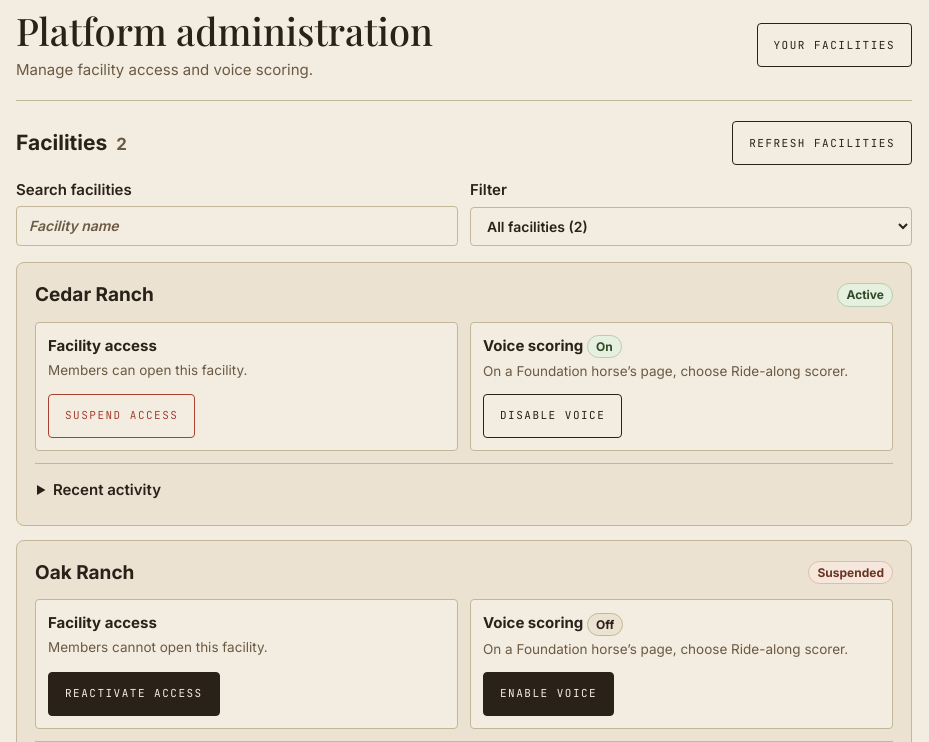
Test case: filters facilities by name and status and clears empty results
The image size is (929, 742).
Later steps or results of the test are not shown.
Expected: the heading "Cedar Ranch" is shown, 35,281 -> 154,309
Select "Suspended (1)" in the dropdown labelled "Filter" at (691, 227), box 470,207 -> 912,246
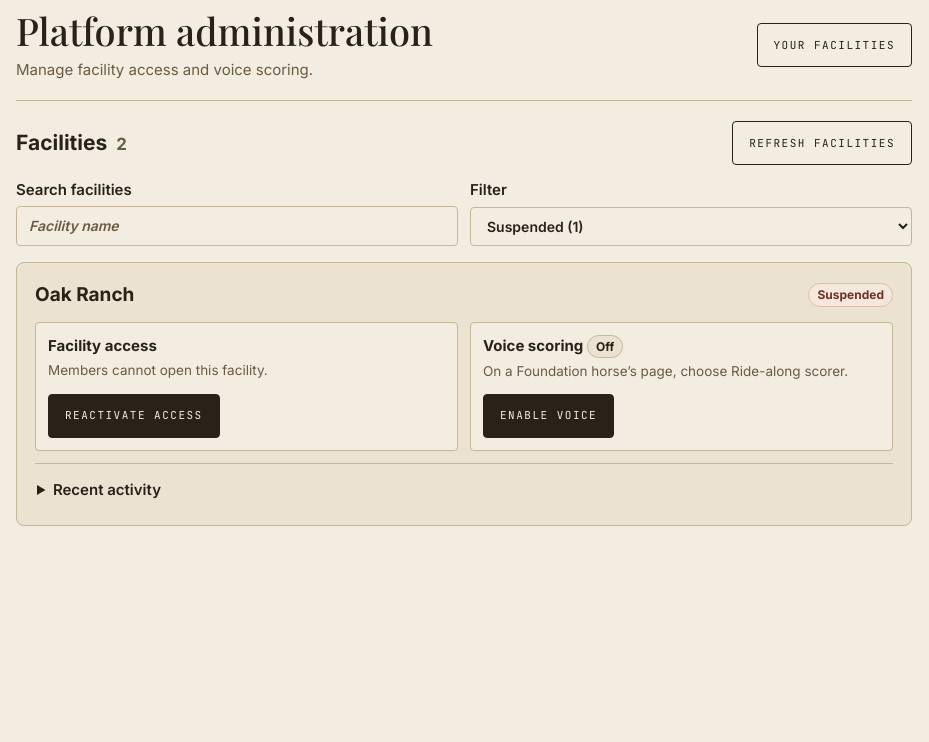
Expected: the button "Reactivate access" is enabled, 48,394 -> 220,438
Now the heading "Cedar Ranch" is gone
Type "Cedar" into the search field labelled "Search facilities".
click(237, 226); type("Cedar")  # box 16,206 -> 458,246
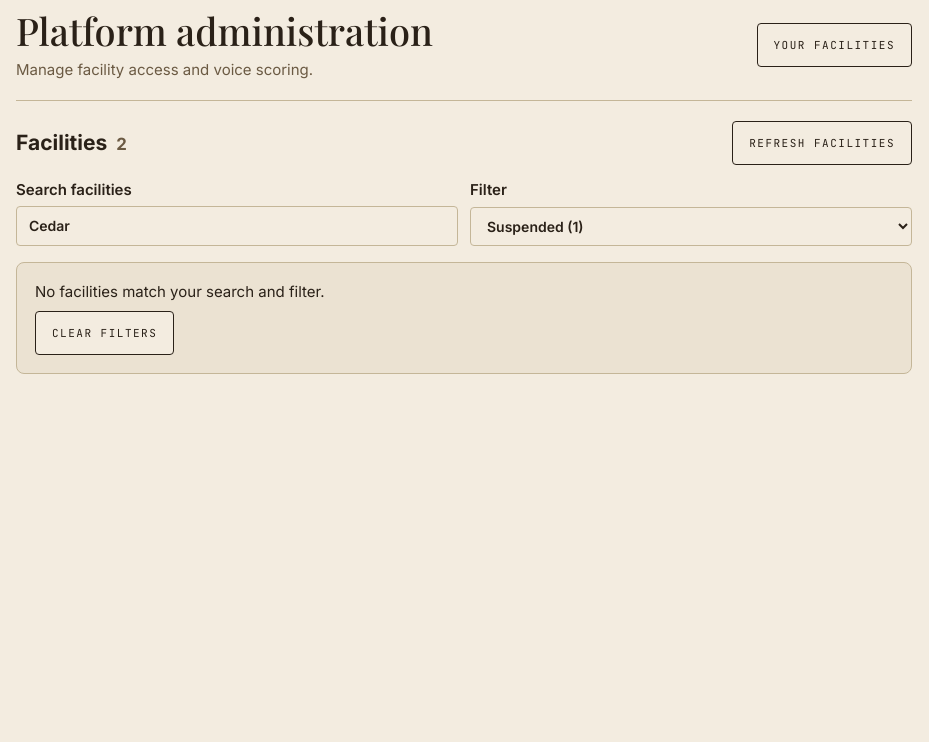
Now the text "No facilities match your search and filter." is shown, box 35,282 -> 324,301
